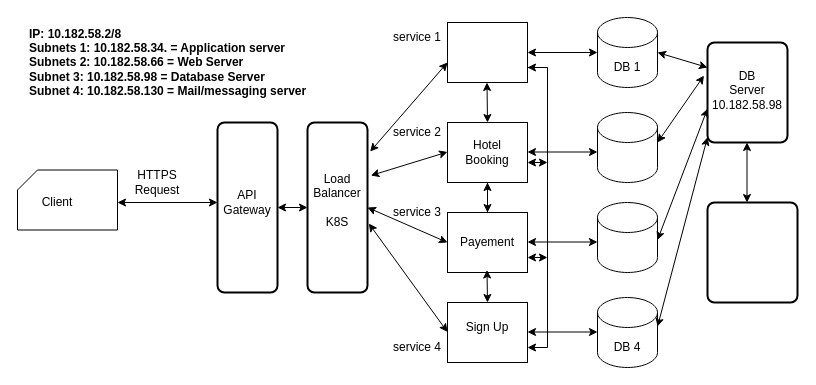
Some shapes in this 816 by 385 pixel diagram are drawn without their labels. Here are the shapes that lost their labels. From the top down, the centre of each, then its label:
At point 487,52: "Travel Booking".
At point 627,147: "DB 2".
At point 627,237: "DB 3".
At point 752,252: "APP Server 10.182.58.34".
